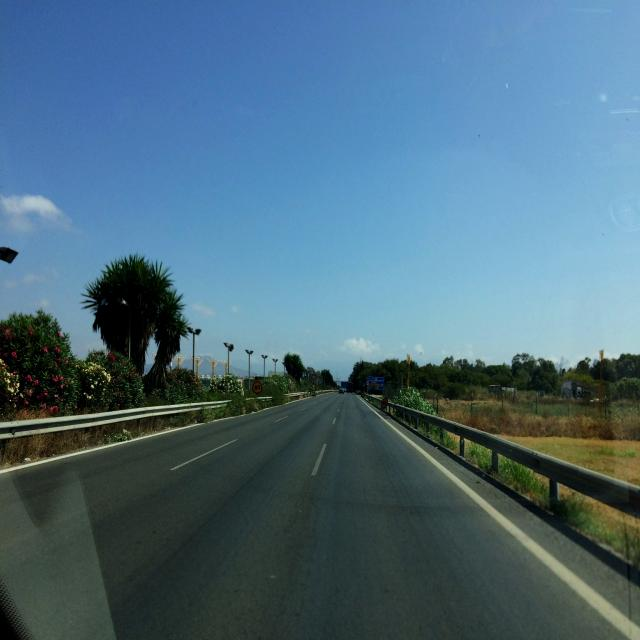car: (560, 380, 598, 404)
